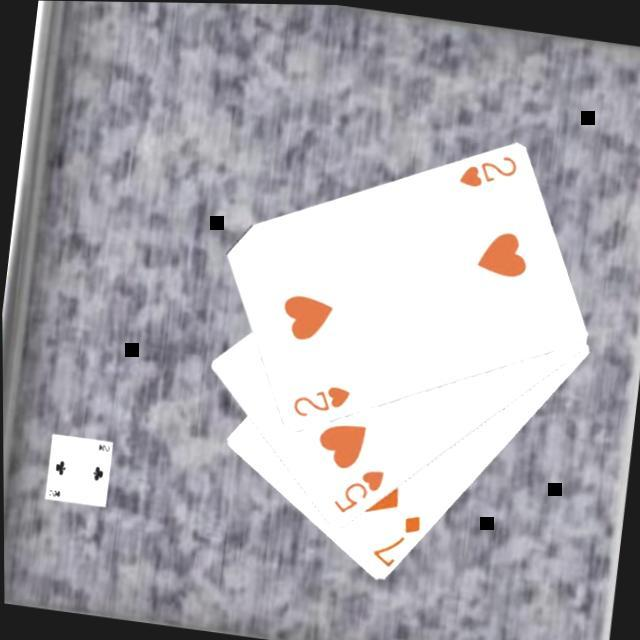2H: (284, 378, 352, 428), (452, 146, 518, 196)
5H: (324, 462, 384, 522)
7D: (364, 506, 423, 573)
